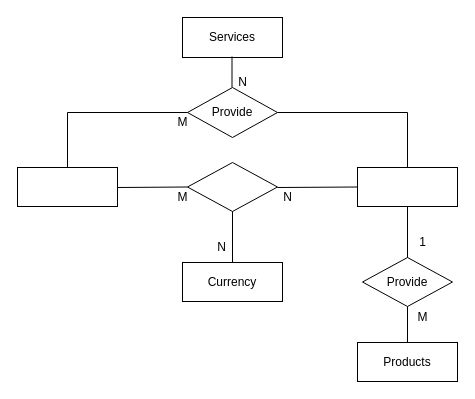
The diagram is 475 pixels wide and 399 high, and some of its shapes have lost their labels. The shapes that lost their labels are listed below. From the top down, each one's centre as x and y in pixels, then its label:
point (67, 186): Providers
point (232, 187): Has
point (407, 186): Company
